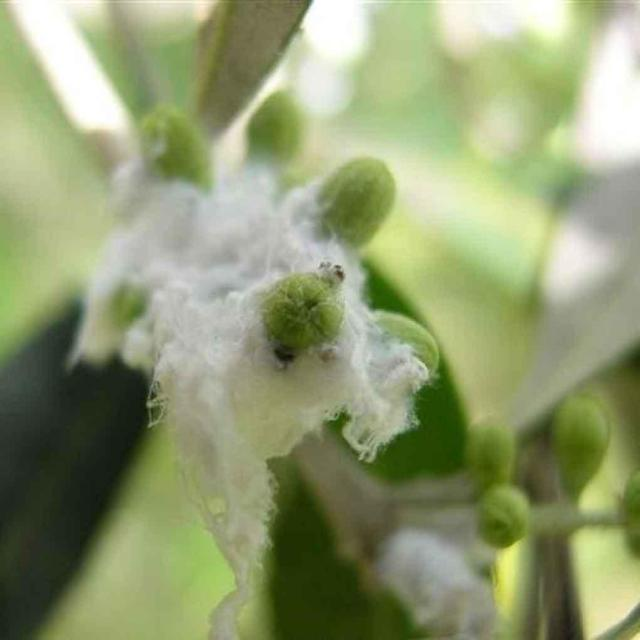Psyllid: (73, 122, 437, 639)
